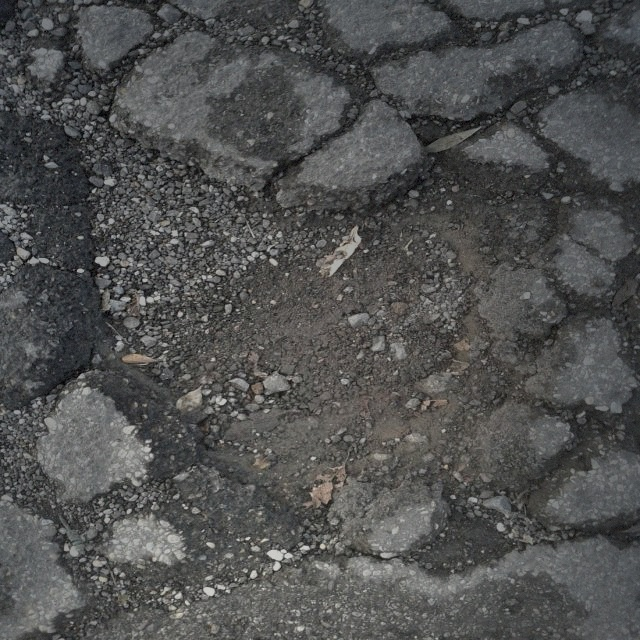pothole: (70, 98, 560, 566)
